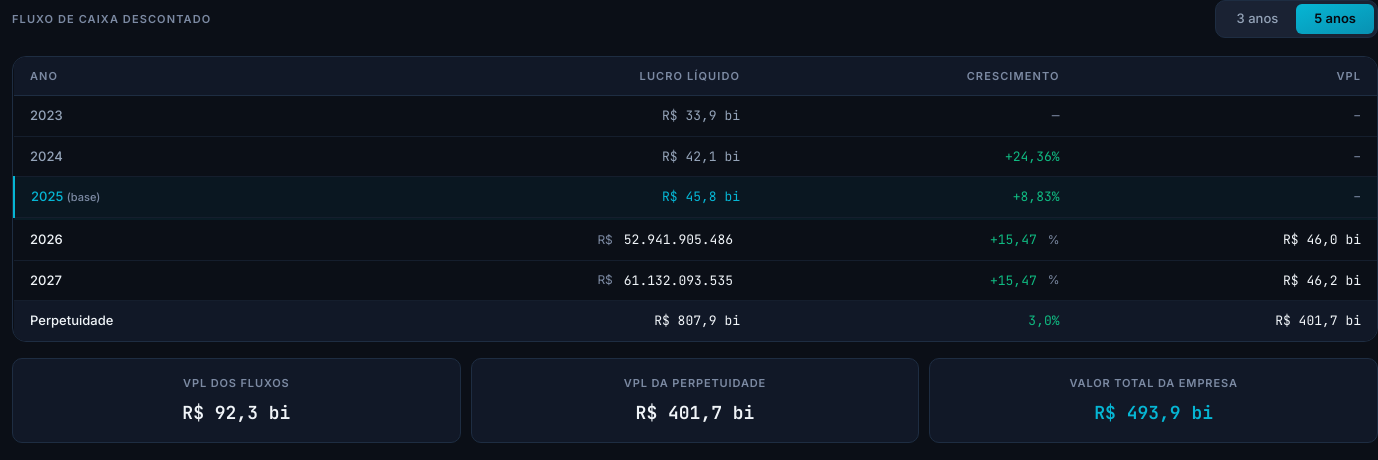
it: DCFTable — digitação nas células editáveis › digitação parcial não é reformatada no meio do caminho
Clear the 1st field: (678, 240) [617,225,740,254]
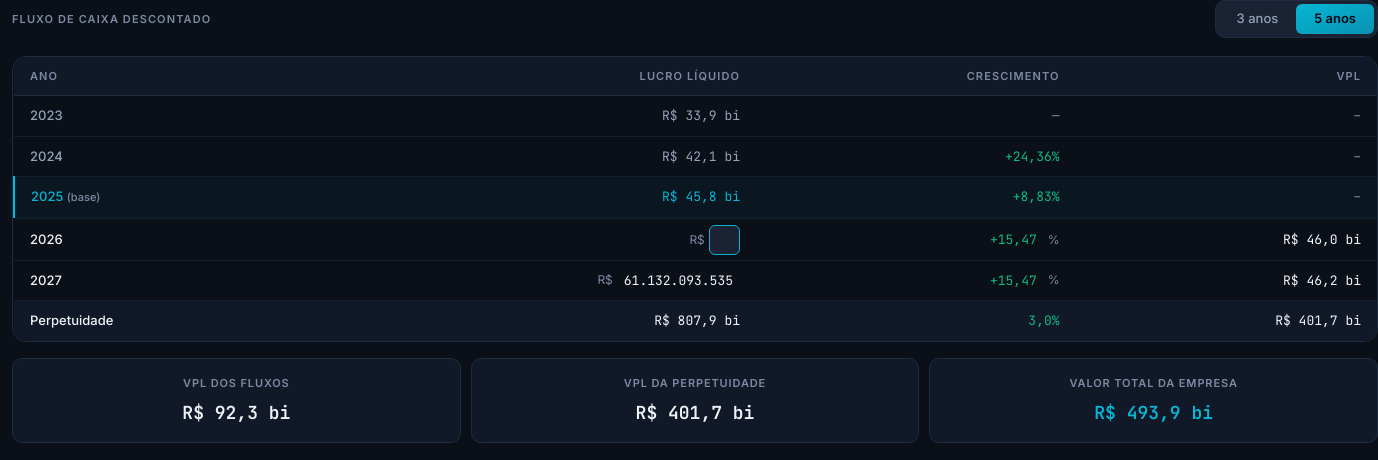
In the 1st field: (724, 240) [709,225,740,254], type "5"
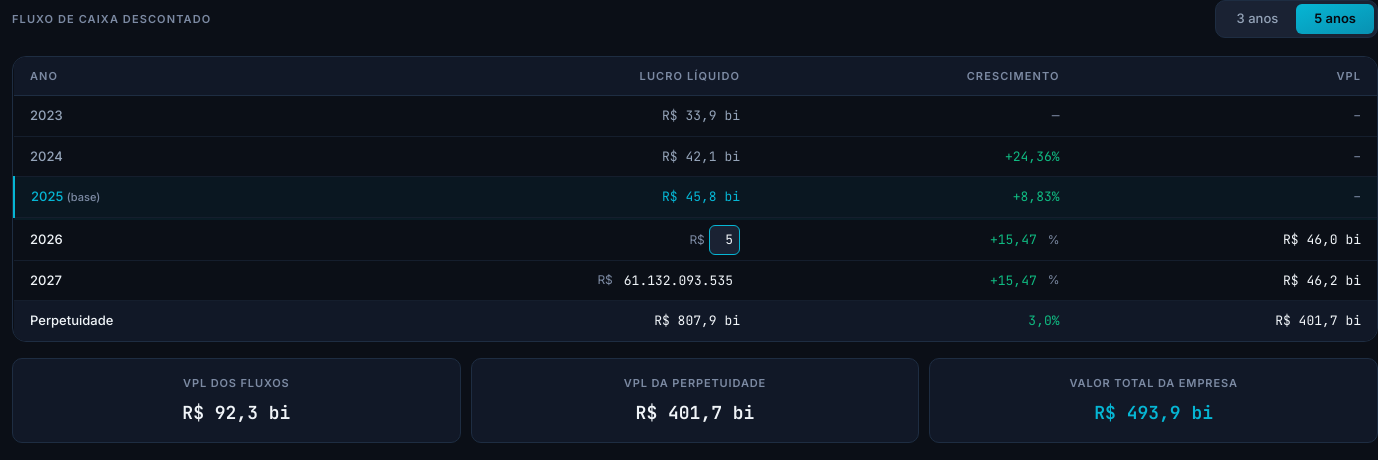
In the 1st field: (724, 240) [709,225,740,254], type "2"
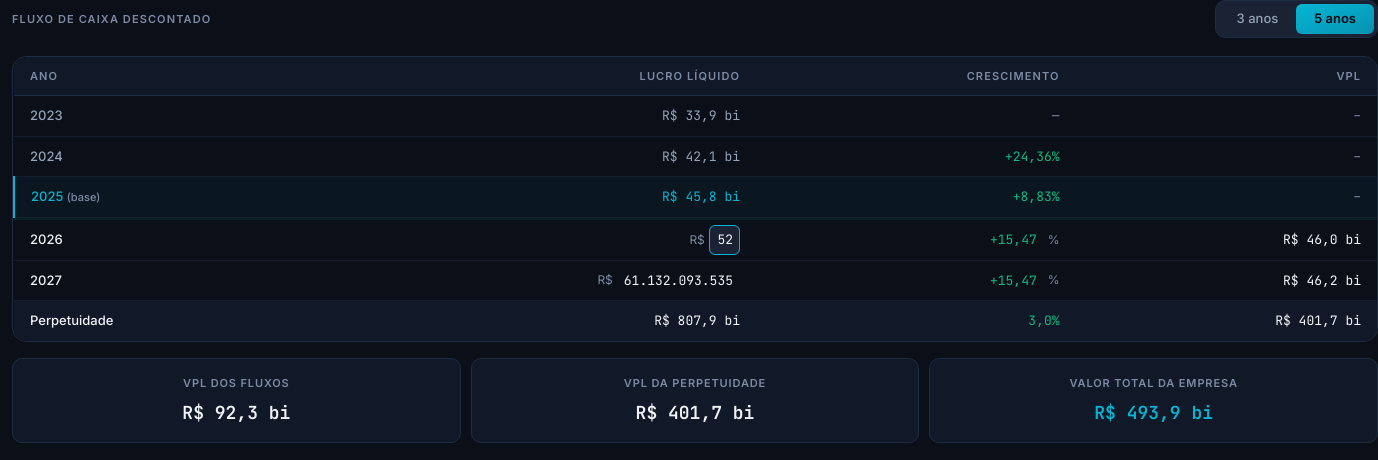
Check: the 1st field holds "52", box [709,225,740,254]
